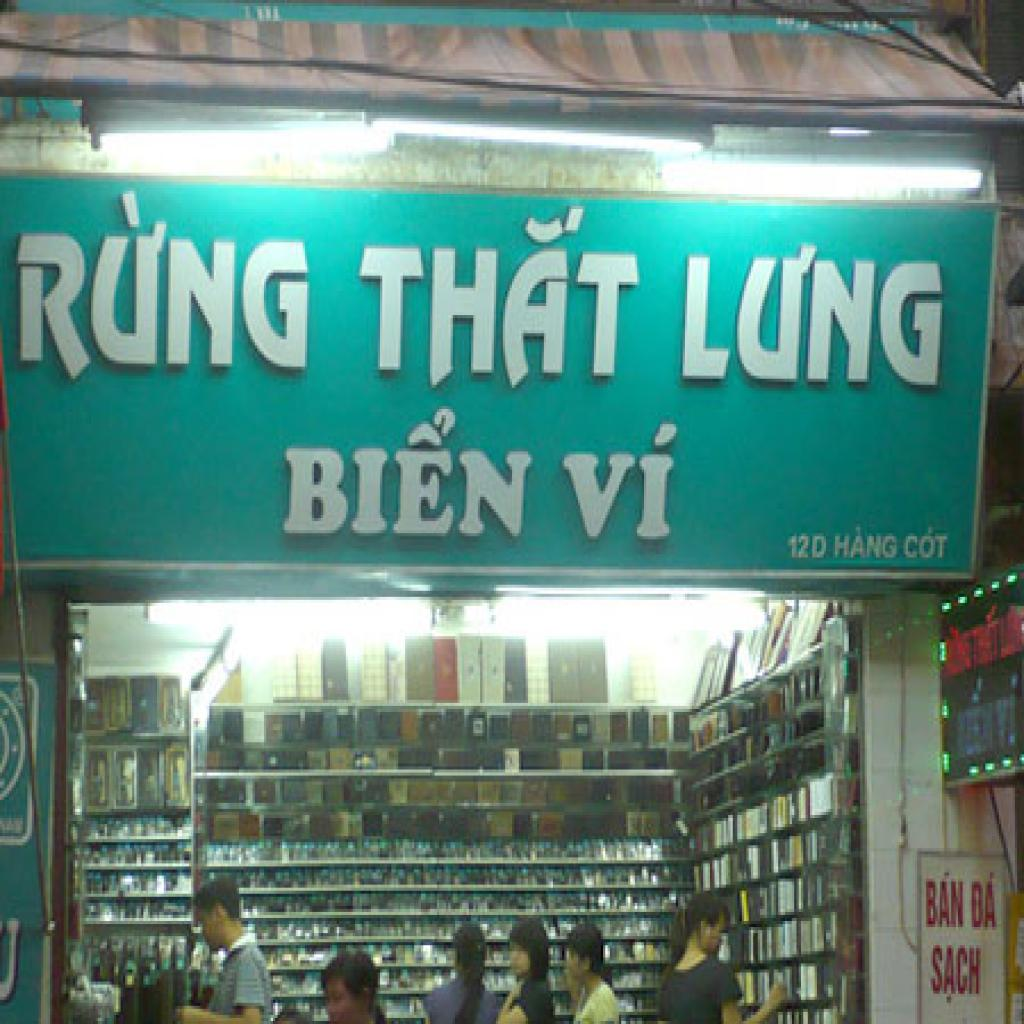text: (14, 191, 314, 391), (346, 200, 646, 394), (678, 239, 951, 397), (278, 406, 542, 545), (562, 418, 683, 548), (931, 945, 985, 1012), (833, 527, 901, 564), (926, 870, 967, 930), (904, 524, 952, 564), (972, 873, 1001, 933), (788, 533, 830, 564)
